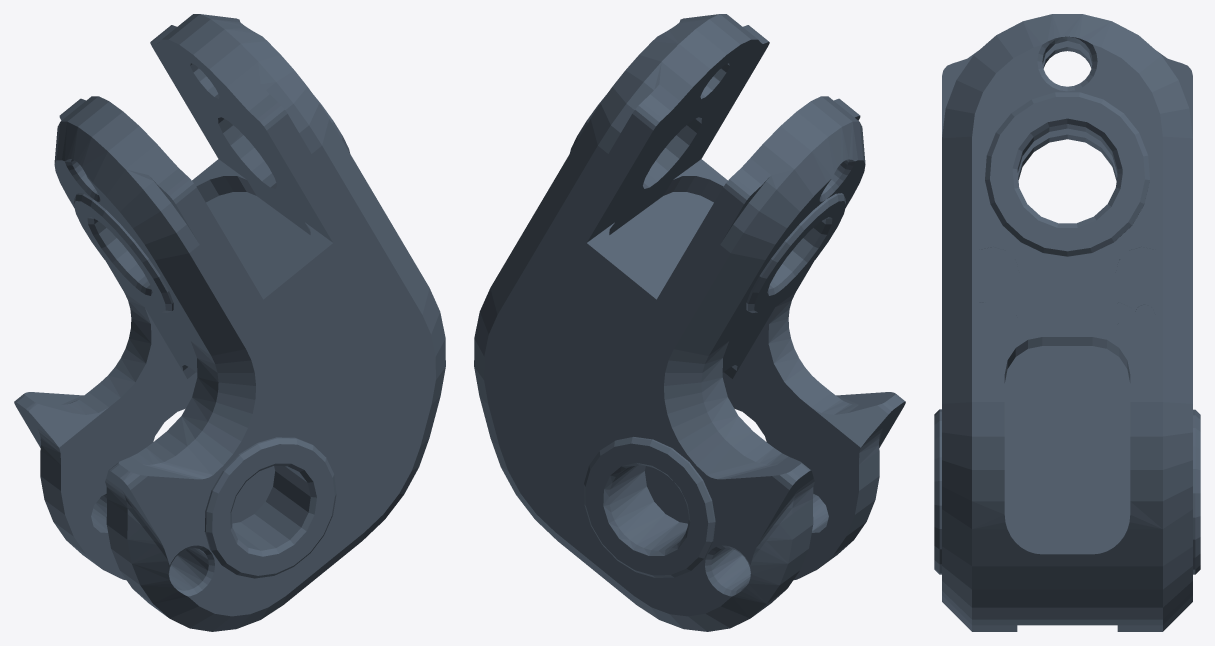
The model's file is L_thumb_prox.dae.
The picture shows the model from 3 angles, left to right: view 1: azimuth 30°, elevation 25°; view 2: azimuth 150°, elevation 25°; view 3: azimuth 270°, elevation 25°; orthographic projection. The views are drawn at different scales.
Parts seen in each view (by area): view 1: L_thumb_prox; view 2: L_thumb_prox; view 3: L_thumb_prox.
Part boxes in pixels (x1,y1,x2,y2): L_thumb_prox: (14,14,445,631); L_thumb_prox: (474,14,905,631); L_thumb_prox: (934,14,1200,631).
Bounding box in the file's own units: 0.0168 × 0.0106 × 0.0273.
